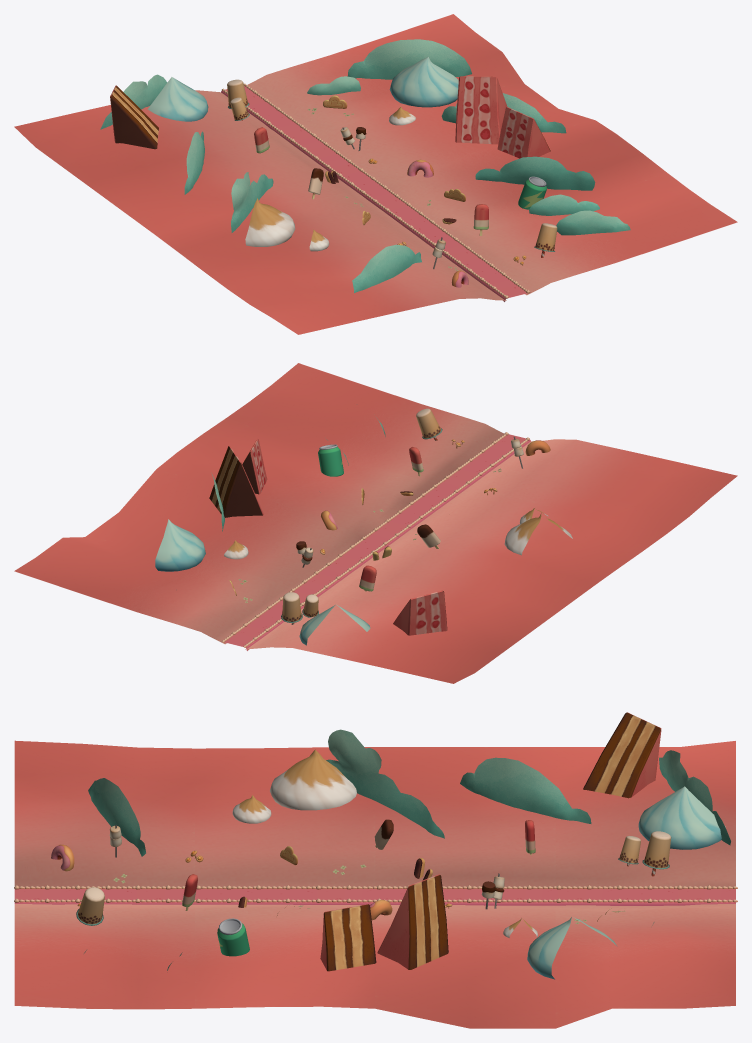
Rendered from stg1_A.gltf.
3 renders of one model, top to bottom at view 1: azimuth 30°, elevation 25°; view 2: azimuth 150°, elevation 25°; view 3: azimuth 270°, elevation 25°, orthographic. The views are drawn at different scales.
Parts seen in each view (by area): view 1: stg1_A_GEO:PIV; view 2: stg1_A_GEO:PIV; view 3: stg1_A_GEO:PIV.
Part boxes in pixels (x1,y1,x2,y2): stg1_A_GEO:PIV: [14, 14, 737, 334]; stg1_A_GEO:PIV: [14, 363, 737, 683]; stg1_A_GEO:PIV: [14, 712, 737, 1028].
Size of the model in its own units: 18756 by 3119 by 21091.
3 materials, 3 textured.
